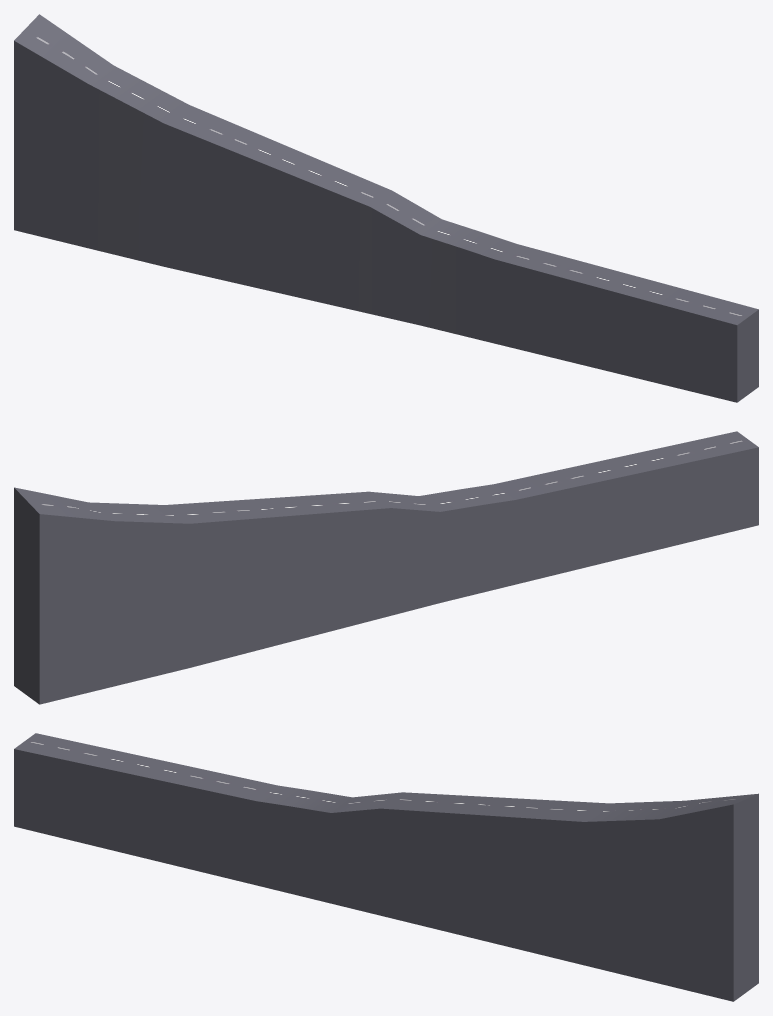
File: road_8.gltf
3 views of the same model, one above another, from view 1: azimuth 90°, elevation 25°; view 2: azimuth 150°, elevation 25°; view 3: azimuth 270°, elevation 25° (orthographic).
Parts seen in each view (by area): view 1: road; view 2: road; view 3: road.
Boxes of the visible parts, x1,y1,x2,y2 form: road: [14, 14, 758, 402]; road: [14, 431, 758, 704]; road: [14, 733, 758, 1001].
Bounding box in the file's own units: 12.89 × 6.21 × 21.23.
Materials: 1 (1 with a texture image).
